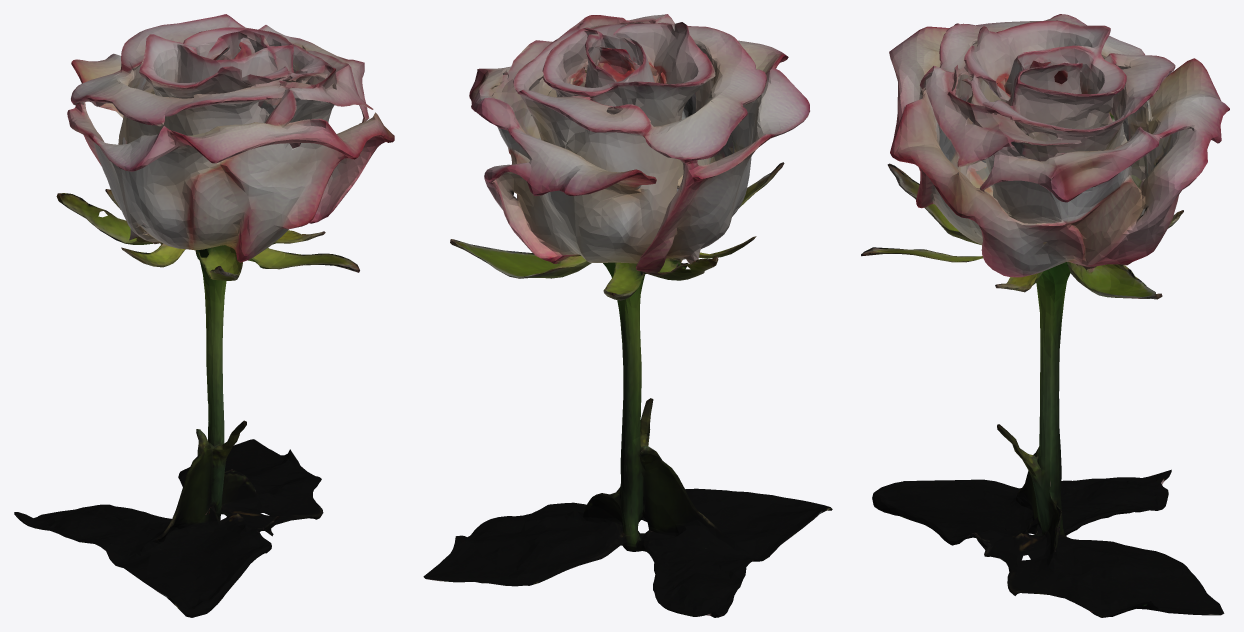
The picture shows the model from 3 angles, left to right: view 1: azimuth 30°, elevation 25°; view 2: azimuth 150°, elevation 25°; view 3: azimuth 270°, elevation 25°; orthographic projection. The views are drawn at different scales.
Visible parts, largest first — view 1: world; view 2: world; view 3: world.
Boxes of the visible parts, bbox=[...] form: world: bbox=[14, 14, 394, 617]; world: bbox=[423, 14, 832, 617]; world: bbox=[861, 14, 1229, 617].
Bounding box in the file's own units: 0.6269 × 0.9998 × 0.6472.
1 material, 1 textured.
